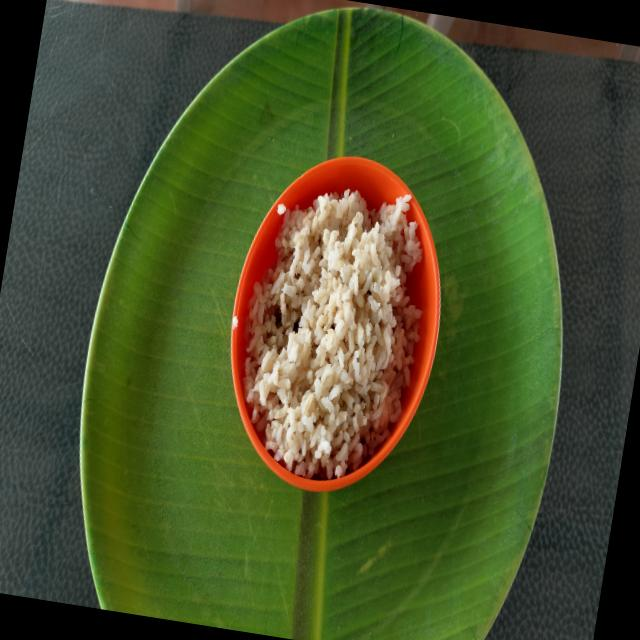brown-rice: (243, 189, 422, 480)
